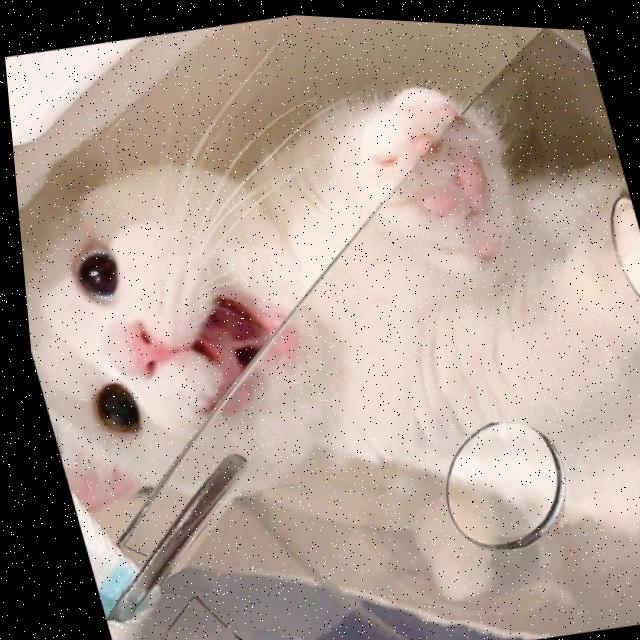Cats: (1, 17, 640, 640)
